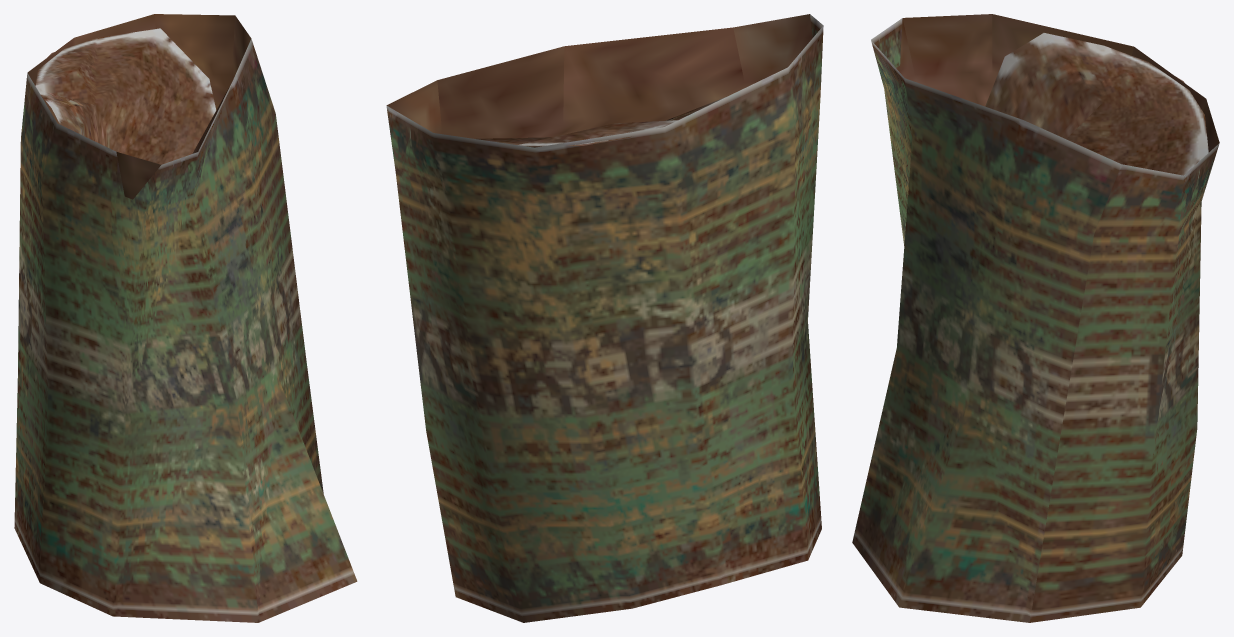
The model's file is SM_TrashCan_04_C.fbx.
The picture shows the model from 3 angles, left to right: view 1: azimuth 30°, elevation 25°; view 2: azimuth 150°, elevation 25°; view 3: azimuth 270°, elevation 25°; orthographic projection. The views are drawn at different scales.
Parts seen in each view (by area): view 1: SM_TrashCan_04_C; view 2: SM_TrashCan_04_C; view 3: SM_TrashCan_04_C.
Part boxes in pixels (x1,y1,x2,y2): SM_TrashCan_04_C: (14, 14, 357, 622); SM_TrashCan_04_C: (386, 14, 823, 622); SM_TrashCan_04_C: (852, 14, 1219, 622).
Bounding box in the file's own units: 14.26 × 15.14 × 22.03.
Materials: 1 (1 with a texture image).
